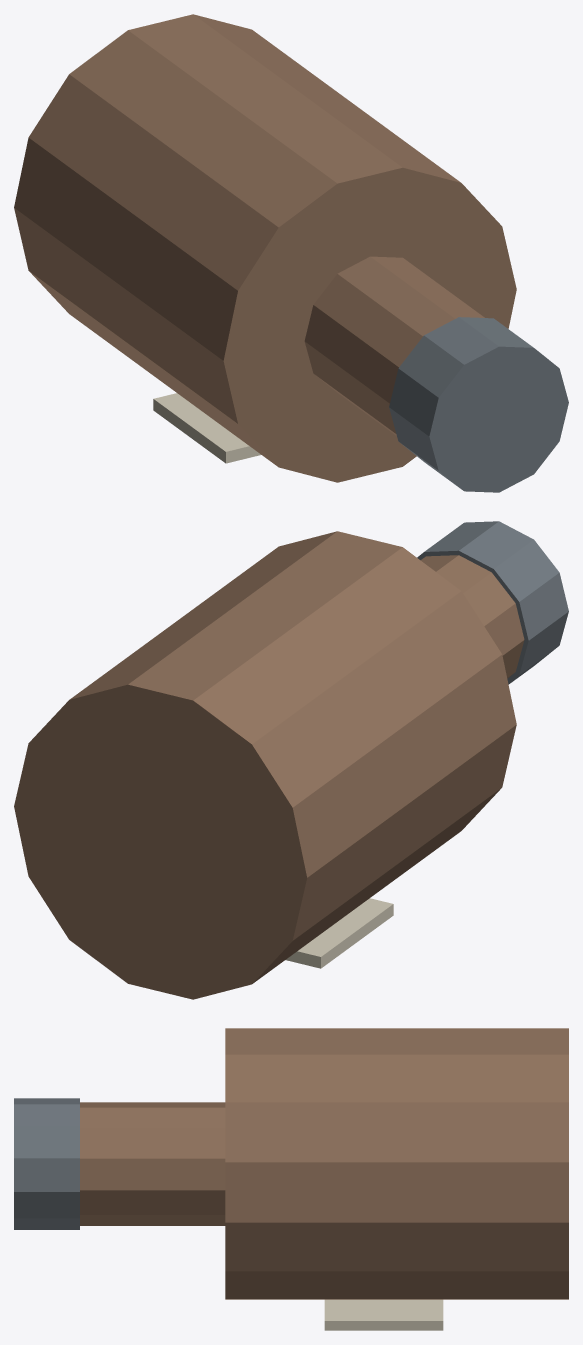
Rendered from bourbon.glb.
3 views of the same model, one above another, from view 1: azimuth 30°, elevation 25°; view 2: azimuth 150°, elevation 25°; view 3: azimuth 270°, elevation 25° (orthographic). The views are drawn at different scales.
Visible parts, largest first — view 1: 00_whiskey_bottle, 02_cap, 01_bottle_neck, 03_label; view 2: 00_whiskey_bottle, 02_cap, 01_bottle_neck, 03_label; view 3: 00_whiskey_bottle, 01_bottle_neck, 02_cap, 03_label.
Boxes of the visible parts, box(x1,y1,x2,y2) form: 00_whiskey_bottle: box(14, 14, 516, 482); 02_cap: box(389, 317, 568, 492); 01_bottle_neck: box(304, 256, 484, 435); 03_label: box(153, 393, 260, 463); 00_whiskey_bottle: box(14, 531, 516, 999); 02_cap: box(417, 521, 568, 684); 01_bottle_neck: box(421, 555, 524, 678); 03_label: box(286, 898, 393, 968); 00_whiskey_bottle: box(225, 1028, 568, 1299); 01_bottle_neck: box(80, 1102, 225, 1225); 02_cap: box(14, 1098, 79, 1229); 03_label: box(324, 1299, 443, 1330).
Size of the model in its own units: 0.21 by 0.2179 by 0.42.
